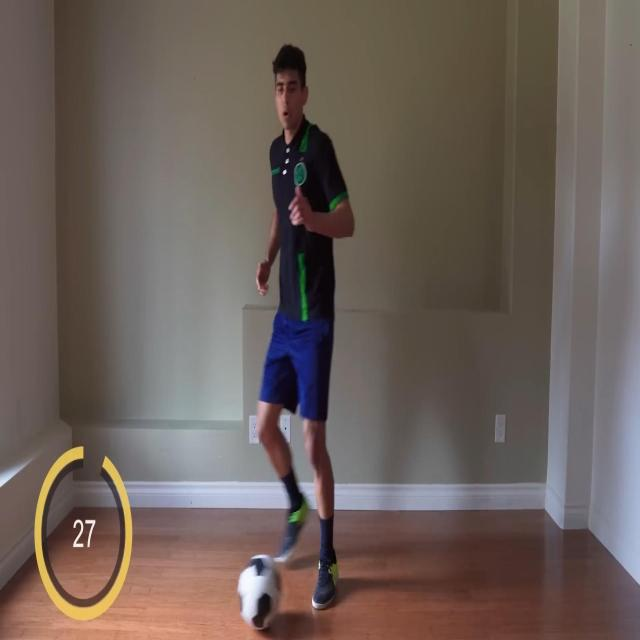Soccer Ball: (238, 555, 281, 631)
